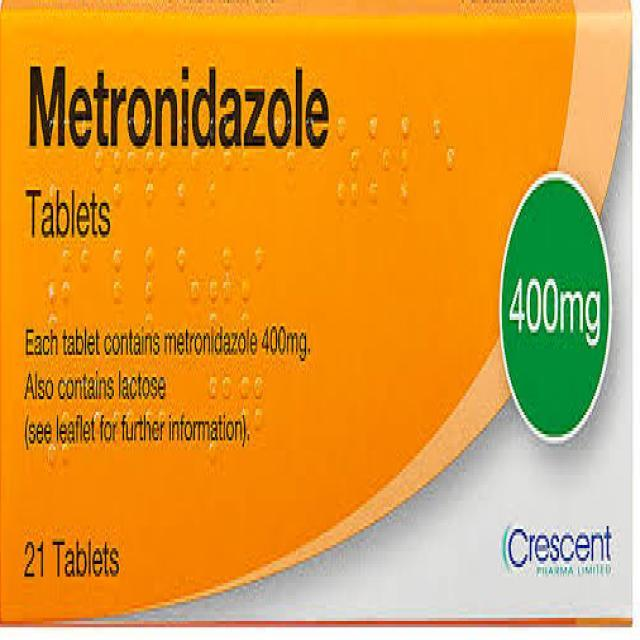drug-name: (26, 60, 332, 150)
